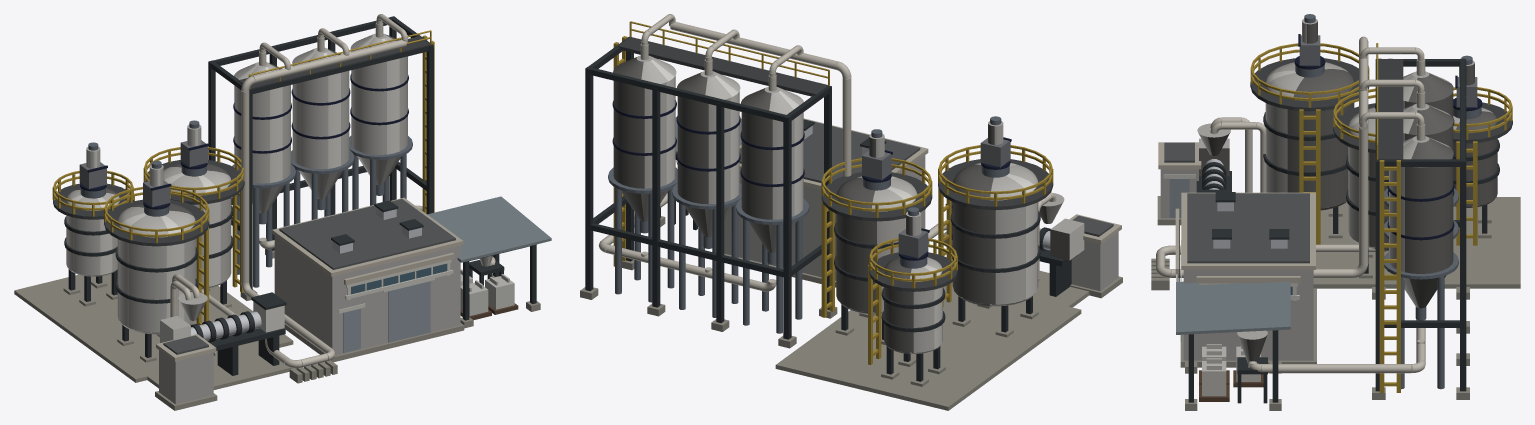
Rendered from poly_plant_lvl3.glb.
The picture shows the model from 3 angles, left to right: view 1: azimuth 30°, elevation 25°; view 2: azimuth 150°, elevation 25°; view 3: azimuth 270°, elevation 25°; orthographic projection. The views are drawn at different scales.
Visible parts, largest first — view 1: poly_plant_v2, poly_plant_v2_Glass; view 2: poly_plant_v2; view 3: poly_plant_v2.
Boxes of the visible parts, x1=… form: poly_plant_v2: x1=14, y1=14, x2=551, y2=410; poly_plant_v2_Glass: x1=351, y1=263, x2=447, y2=294; poly_plant_v2: x1=580, y1=14, x2=1122, y2=410; poly_plant_v2: x1=1151, y1=14, x2=1520, y2=410.
Bounding box in the file's own units: 1 × 0.5826 × 0.7303.
